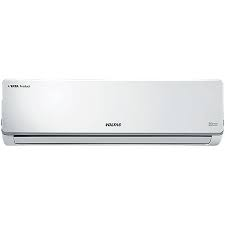ac: (1, 75, 225, 147)
